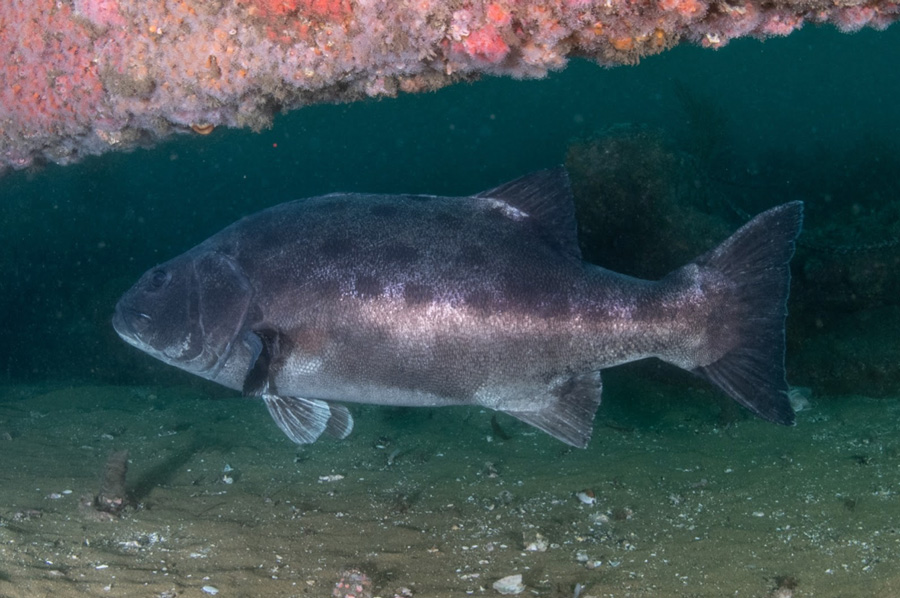Giant Bass: (63, 179, 863, 525)
